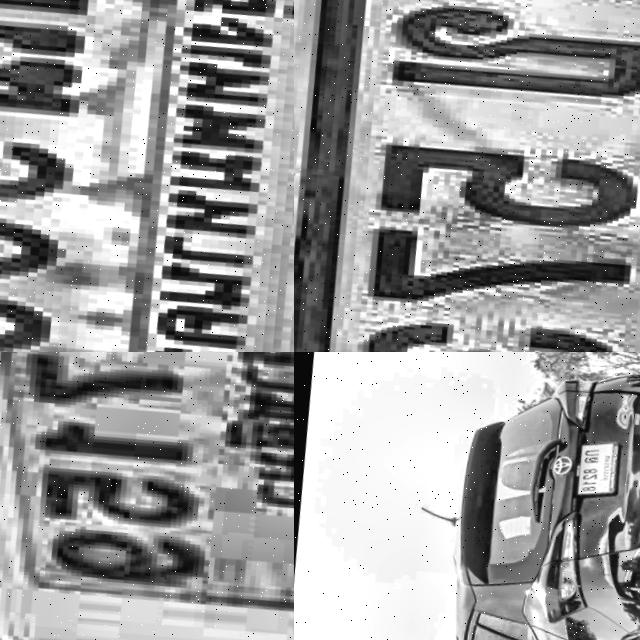license-plate: (294, 0, 640, 352), (0, 0, 294, 352), (0, 352, 294, 640), (559, 436, 631, 515)
